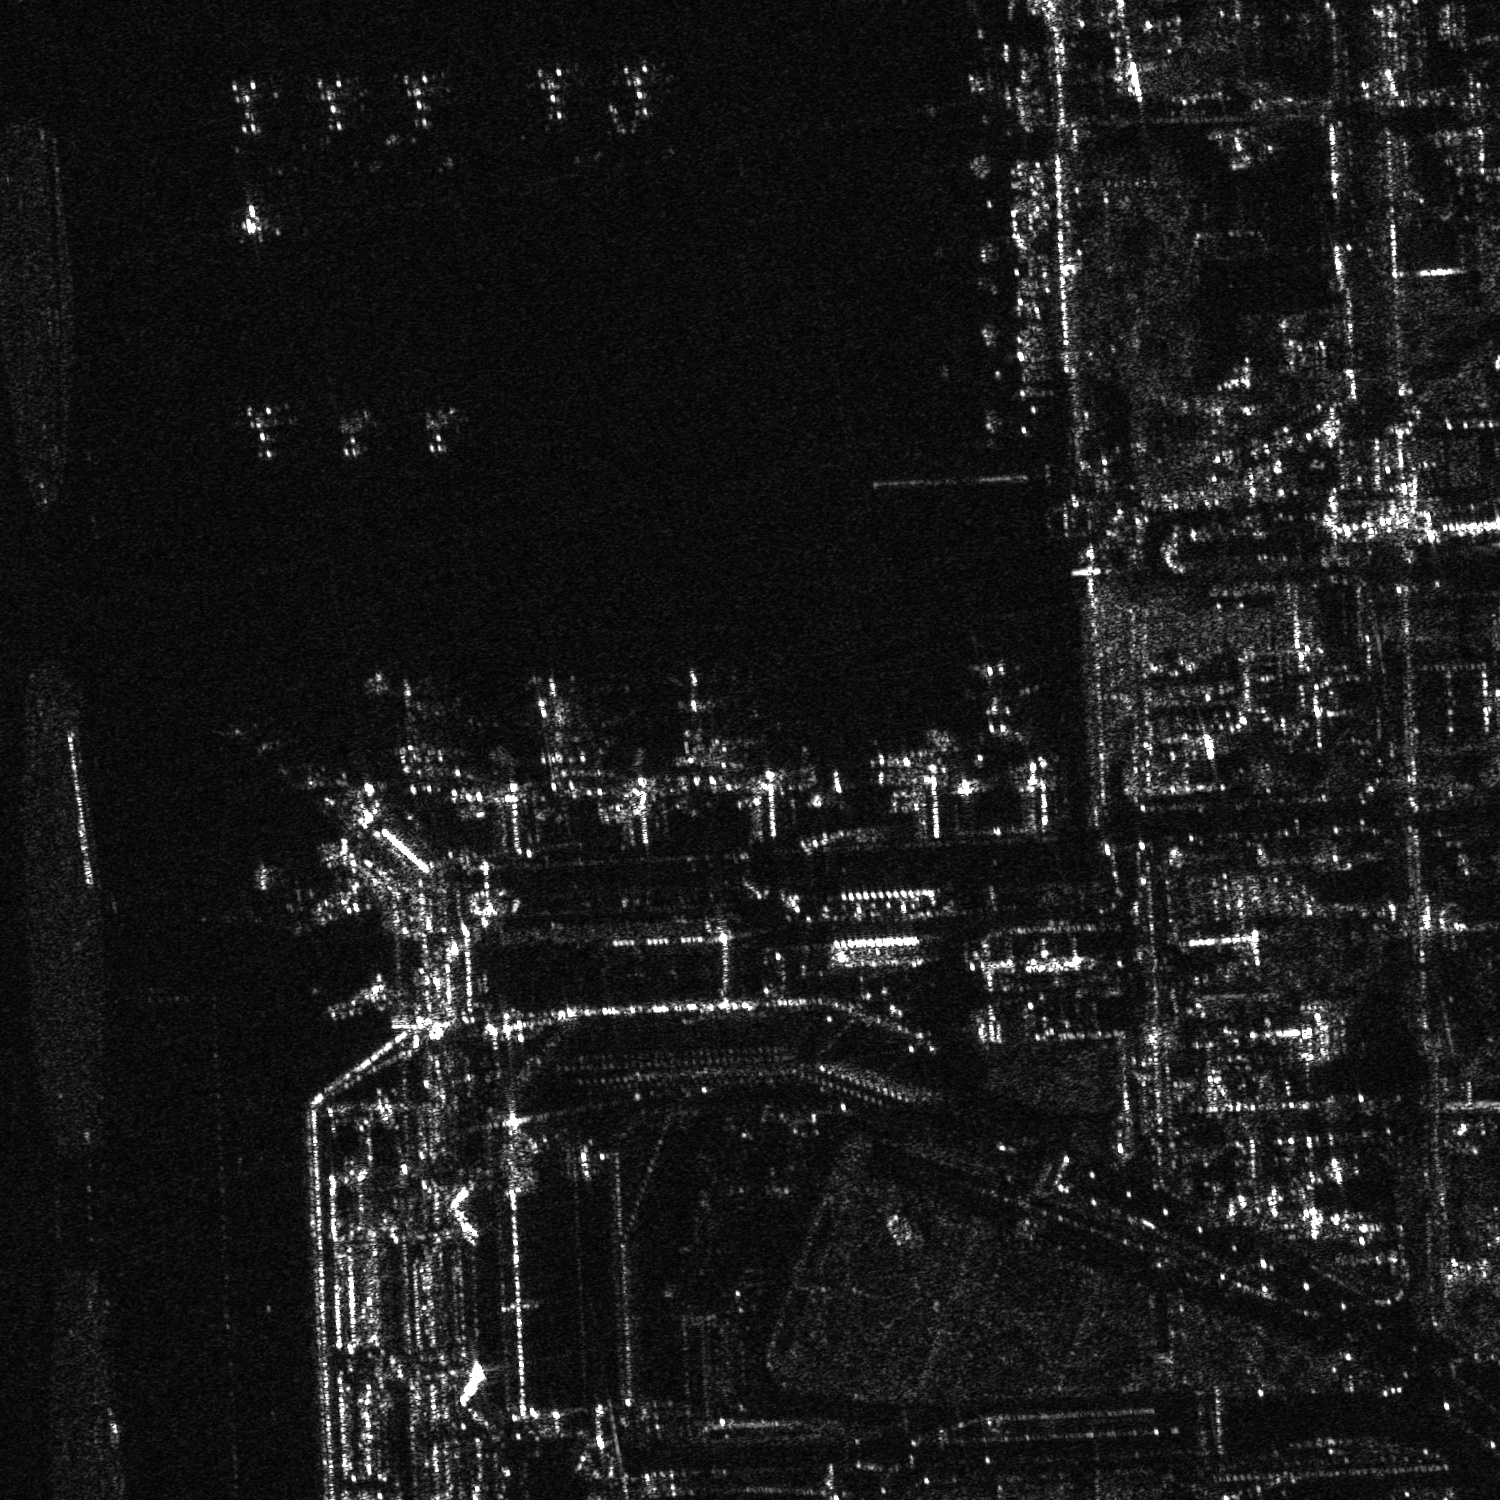A220: (955, 659, 1047, 745), (522, 668, 588, 747), (326, 400, 376, 462)
A320/321: (411, 400, 466, 457)
ARJ21: (227, 396, 295, 464), (223, 192, 277, 249)
Boeing787: (662, 663, 729, 738)
other: (602, 55, 672, 125), (387, 63, 451, 139), (374, 668, 440, 738), (218, 71, 279, 139), (306, 65, 359, 139), (525, 59, 574, 129)
